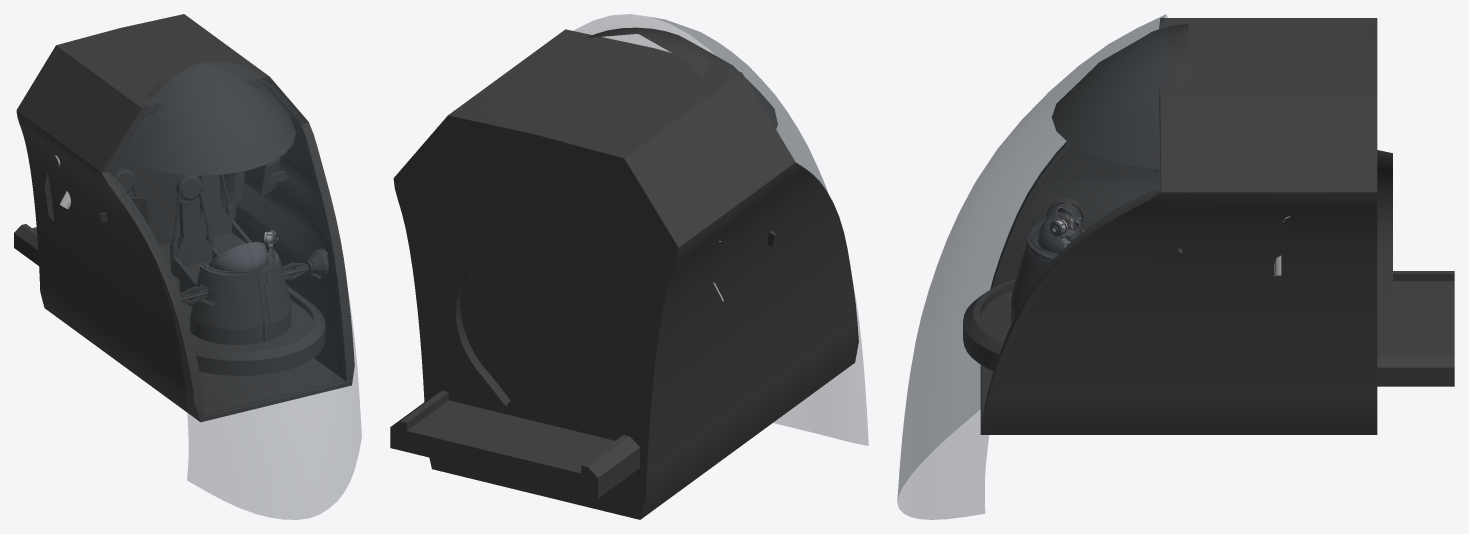
Rendered from slave1cockpit.glb.
The picture shows the model from 3 angles, left to right: view 1: azimuth 30°, elevation 25°; view 2: azimuth 150°, elevation 25°; view 3: azimuth 270°, elevation 25°; orthographic projection. The views are drawn at different scales.
Bounding box in the file's own units: 3.73 × 6.49 × 6.84.
4 materials, 2 textured.
